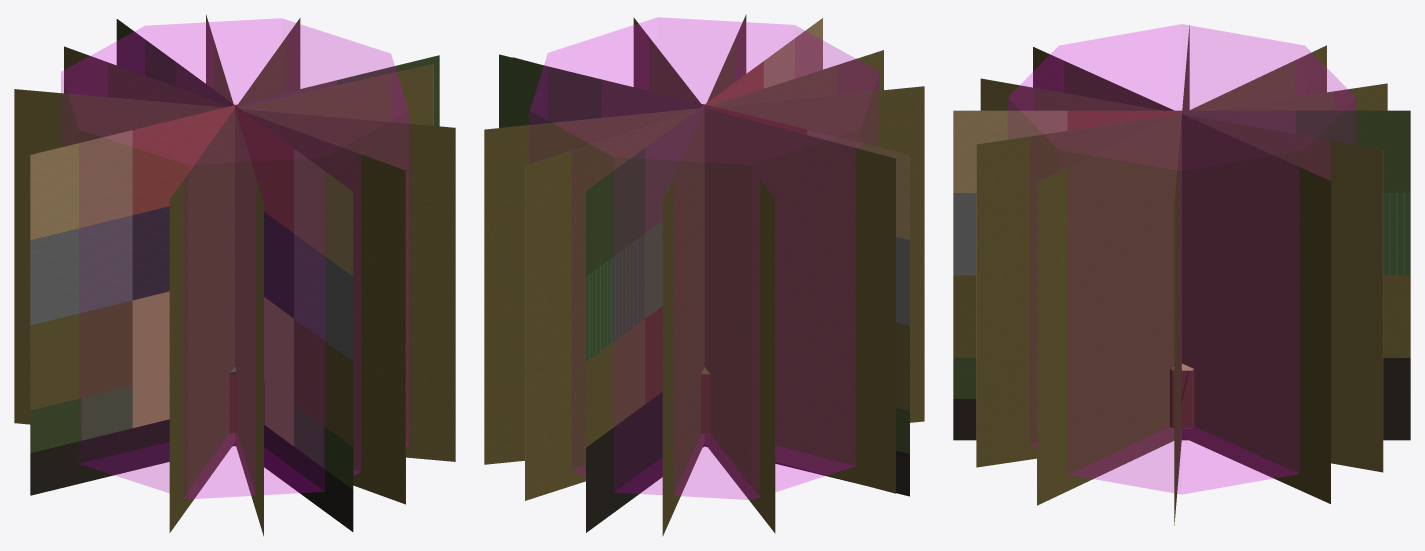
Rendered from scrub_small.dae.
The picture shows the model from 3 angles, left to right: view 1: azimuth 30°, elevation 25°; view 2: azimuth 150°, elevation 25°; view 3: azimuth 270°, elevation 25°; orthographic projection. The views are drawn at different scales.
Visible parts, largest first — view 1: Colmesh_scrub-1, scrub_small_a800, scrub_small_a50, scrub_small_a200; view 2: scrub_small_a800, Colmesh_scrub-1, scrub_small_a200, scrub_small_a50; view 3: scrub_small_a800, scrub_small_a200, Colmesh_scrub-1, scrub_small_a50.
Boxes of the visible parts, x1,y1,x2,y2 form: Colmesh_scrub-1: (61, 18, 408, 498); scrub_small_a800: (14, 14, 455, 536); scrub_small_a50: (30, 19, 439, 531); scrub_small_a200: (14, 16, 455, 531); scrub_small_a800: (484, 15, 924, 536); Colmesh_scrub-1: (530, 17, 878, 499); scrub_small_a200: (484, 14, 924, 535); scrub_small_a50: (499, 18, 909, 532); scrub_small_a800: (976, 25, 1387, 525); scrub_small_a200: (976, 27, 1387, 519); Colmesh_scrub-1: (1008, 24, 1355, 494); scrub_small_a50: (953, 110, 1410, 440).
Size of the model in its own units: 0.5771 by 0.5771 by 0.477.
Materials: 2 (1 with a texture image).
